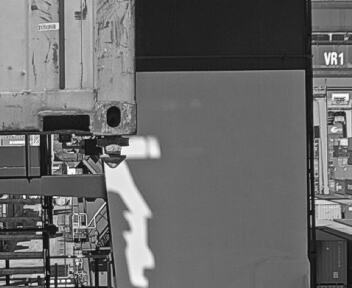twist_lock_2: (118, 127, 161, 171)
